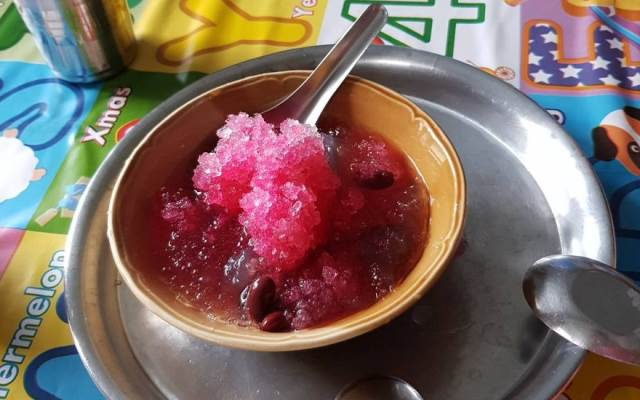O-eo: (122, 65, 465, 352)
